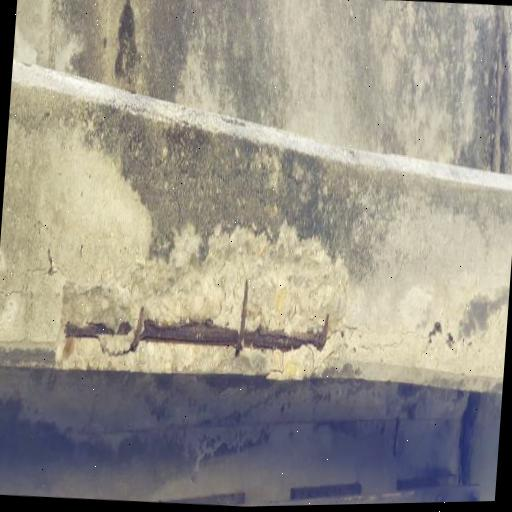exposed_rebar: (131, 280, 329, 355), (65, 322, 115, 338), (117, 322, 132, 335)
